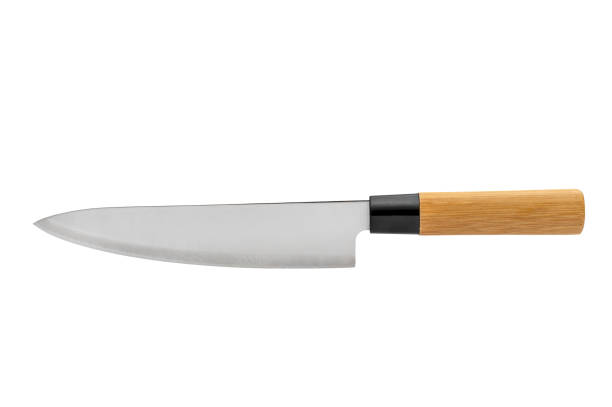knife: (31, 185, 585, 268)
